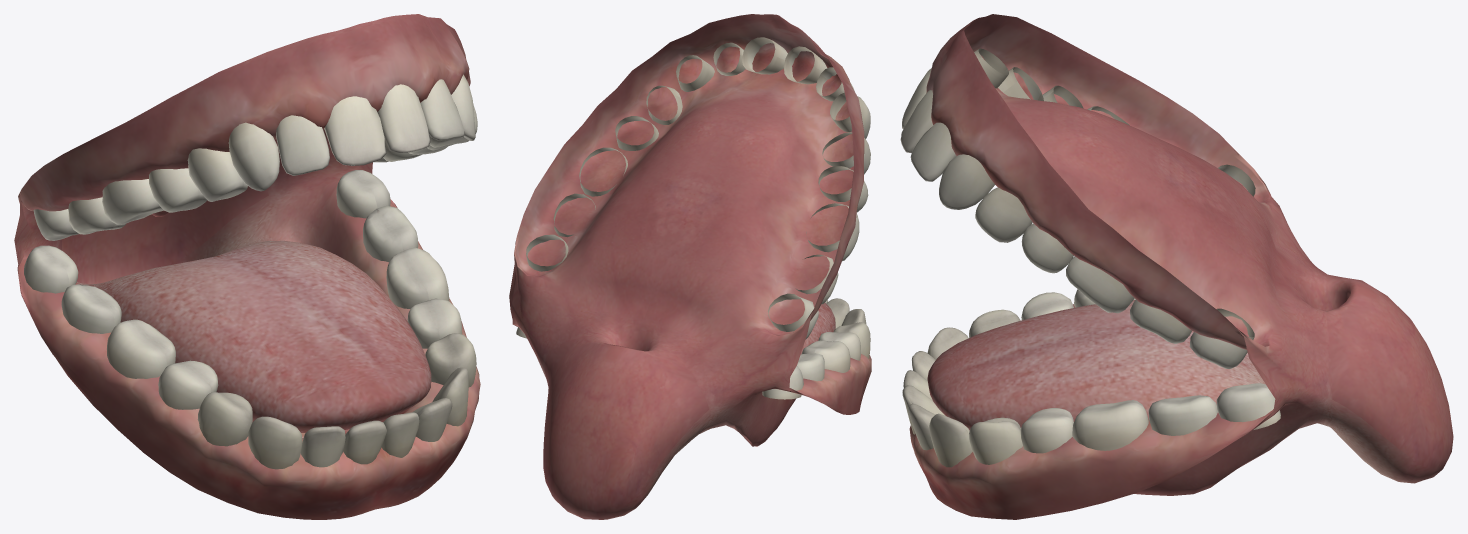
Rendered from open_teeth.gltf.
The picture shows the model from 3 angles, left to right: view 1: azimuth 30°, elevation 25°; view 2: azimuth 150°, elevation 25°; view 3: azimuth 270°, elevation 25°; orthographic projection. The views are drawn at different scales.
Parts seen in each view (by area): view 1: Gums_GumsMaterial_0, Teeth.11, Teeth.46, Teeth.36, Teeth.21, Teeth.13, Teeth.12, Teeth.44, Teeth.47, Teeth.45, Teeth.43, Teeth.37 (+16 smaller); view 2: Gums_GumsMaterial_0, Teeth.46, Teeth.21, Teeth.18, Teeth.11, Teeth.13, Teeth.47, Teeth.23, Teeth.15, Teeth.45, Teeth.48, Teeth.16 (+5 smaller); view 3: Gums_GumsMaterial_0, Teeth.36, Teeth.37, Teeth.23, Teeth.24, Teeth.26, Teeth.38, Teeth.34, Teeth.35, Teeth.22, Teeth.33, Teeth.25 (+10 smaller).
Part boxes in pixels (x1,y1,x2,y2): Gums_GumsMaterial_0: [14, 14, 480, 519]; Teeth.11: [324, 96, 386, 165]; Teeth.46: [107, 319, 175, 378]; Teeth.36: [386, 247, 449, 308]; Teeth.21: [377, 84, 430, 152]; Teeth.13: [228, 122, 279, 191]; Teeth.12: [276, 115, 329, 175]; Teeth.44: [197, 392, 252, 446]; Teeth.47: [61, 284, 121, 333]; Teeth.45: [158, 360, 218, 409]; Teeth.43: [248, 416, 302, 469]; Teeth.37: [363, 205, 418, 262]; Gums_GumsMaterial_0: [509, 14, 871, 519]; Teeth.46: [801, 340, 850, 372]; Teeth.21: [742, 37, 787, 74]; Teeth.18: [768, 293, 818, 339]; Teeth.11: [783, 46, 827, 84]; Teeth.13: [830, 92, 870, 138]; Teeth.47: [797, 353, 824, 381]; Teeth.23: [676, 55, 714, 91]; Teeth.15: [818, 166, 868, 212]; Teeth.45: [818, 332, 860, 360]; Teeth.48: [762, 366, 803, 399]; Teeth.16: [806, 203, 859, 261]; Gums_GumsMaterial_0: [909, 14, 1453, 519]; Teeth.36: [1072, 400, 1148, 450]; Teeth.37: [1148, 395, 1217, 435]; Teeth.23: [939, 154, 994, 209]; Teeth.24: [975, 187, 1032, 242]; Teeth.26: [1066, 256, 1134, 313]; Teeth.38: [1216, 383, 1280, 429]; Teeth.34: [969, 417, 1022, 464]; Teeth.35: [1020, 408, 1073, 453]; Teeth.22: [910, 122, 956, 181]; Teeth.33: [929, 413, 972, 467]; Teeth.25: [1021, 223, 1073, 273].
Size of the model in its own units: 8.75 by 10.3 by 11.51.
2 materials, 2 textured.
